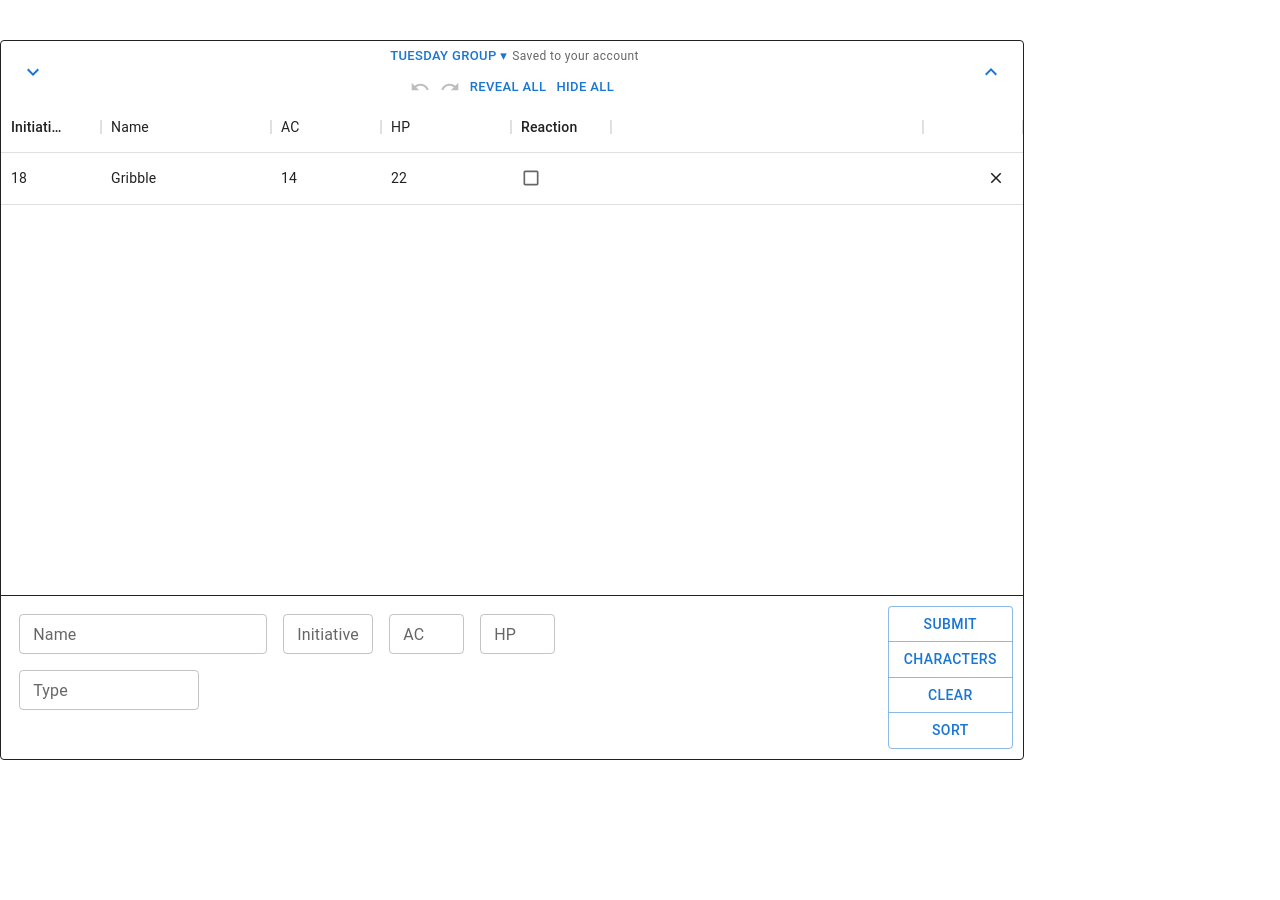
Test: TrackerPage › trackers › starts a new tracker with a name
expect the text "Gribble" is shown: met, box [111,168,156,188]
Click the button with aria-label "Trackers" at [449, 56], box [385,41,512,72]
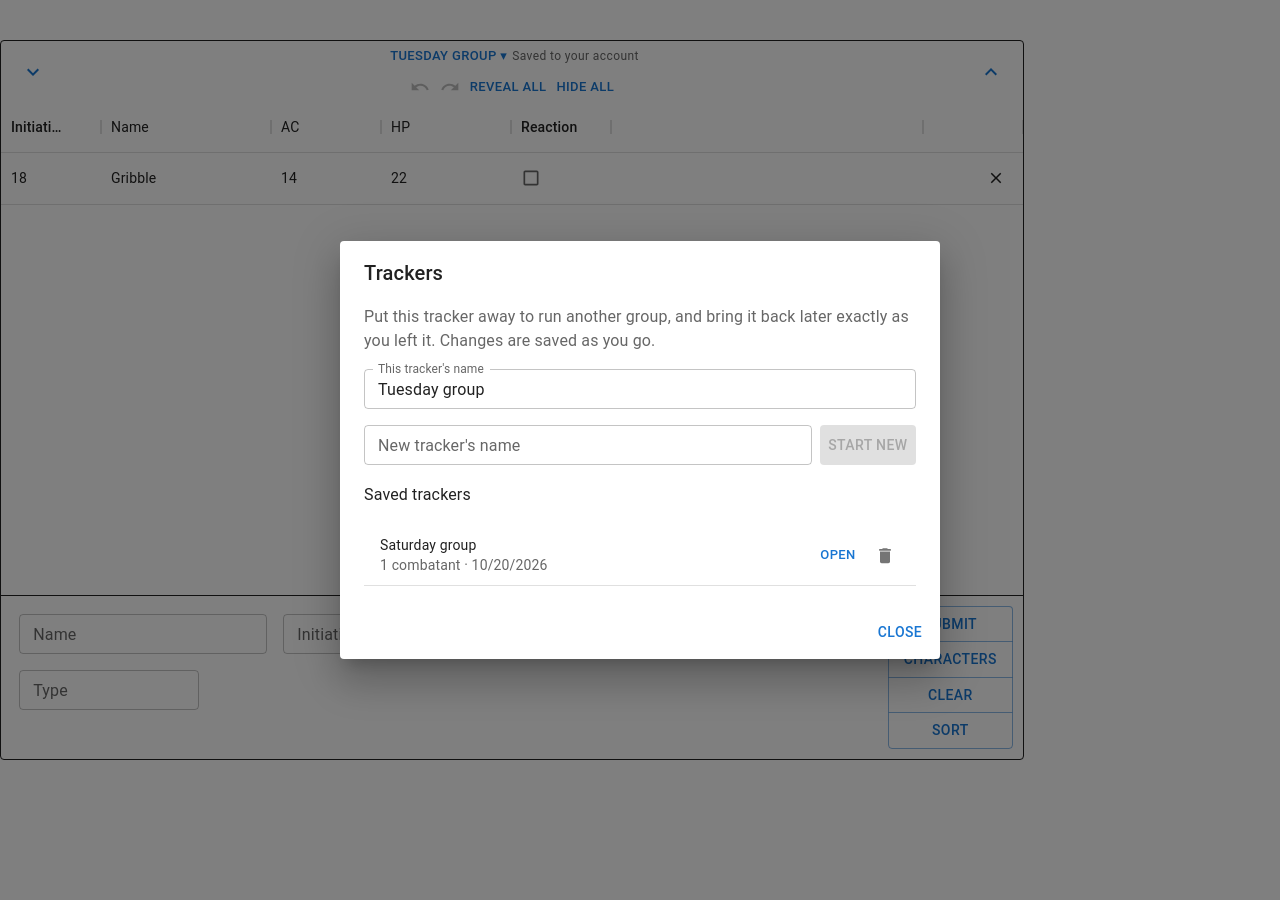
Type "Friday one-shot" into the field labelled "New tracker's name" at [588, 445], box [364,425,812,465]
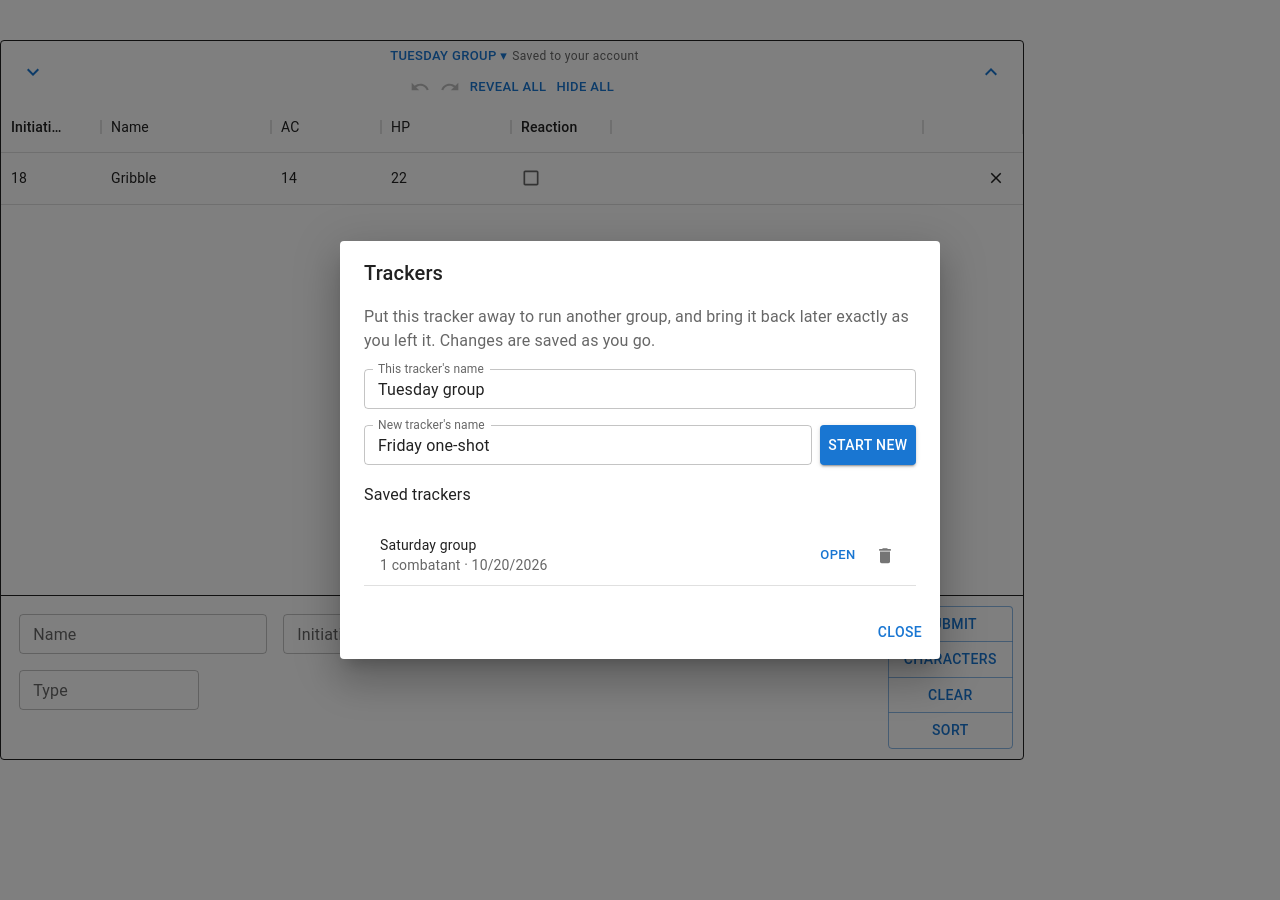
Click the button "Start new" at [868, 445], box [820,425,916,465]
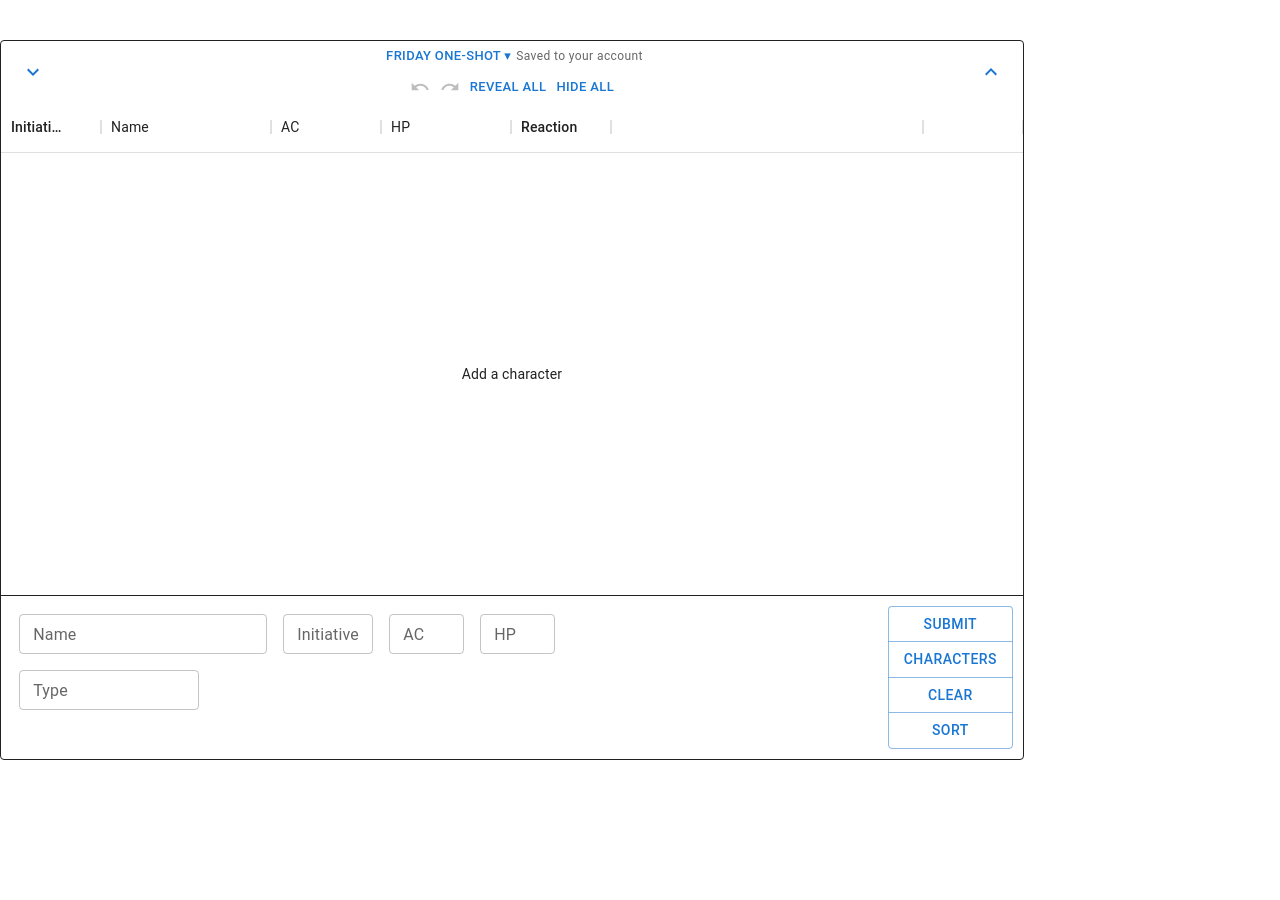
expect the dialog is gone: met
expect the button with aria-label "Trackers" shows "Friday one-shot": met, box [381,41,516,72]
expect the text "Gribble" is gone: met
